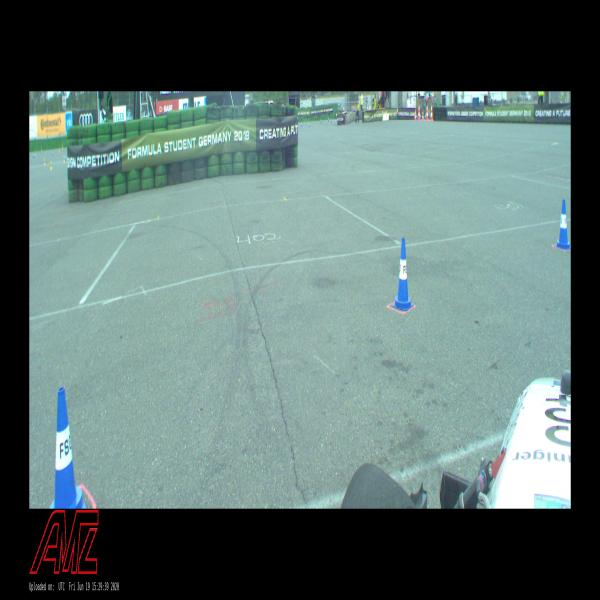blue_cone: (49, 386, 86, 508), (392, 237, 414, 311), (555, 200, 570, 249), (320, 118, 322, 123), (330, 118, 332, 123), (65, 155, 66, 161), (52, 150, 53, 156), (301, 122, 302, 127), (309, 122, 310, 127), (328, 117, 329, 122), (33, 154, 34, 158)
large_orange_cone: (422, 109, 424, 121), (415, 109, 416, 120)
yellow_cone: (50, 161, 52, 170), (63, 156, 65, 163), (58, 146, 60, 153), (44, 158, 45, 166), (35, 150, 36, 156)
